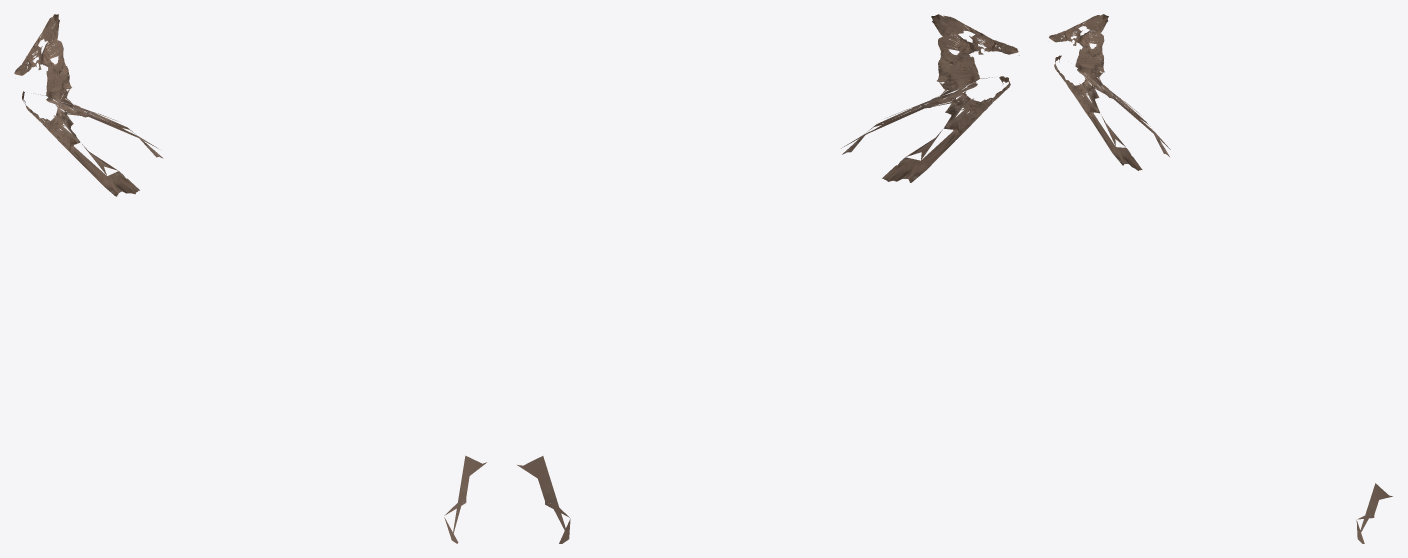
File: context-2.glb
3 views of the same model, side by side, from view 1: azimuth 30°, elevation 25°; view 2: azimuth 150°, elevation 25°; view 3: azimuth 330°, elevation 25° (orthographic). The views are drawn at different scales.
Size of the model in its own units: 59.96 by 73.49 by 6.48.
1 material, 1 textured.
